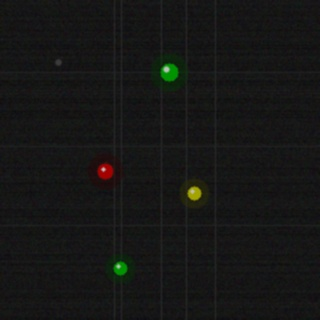green_normal: (158, 61, 180, 83), (111, 259, 129, 277)
red_fault: (95, 161, 115, 181)
yellow_warning: (185, 184, 203, 202)
